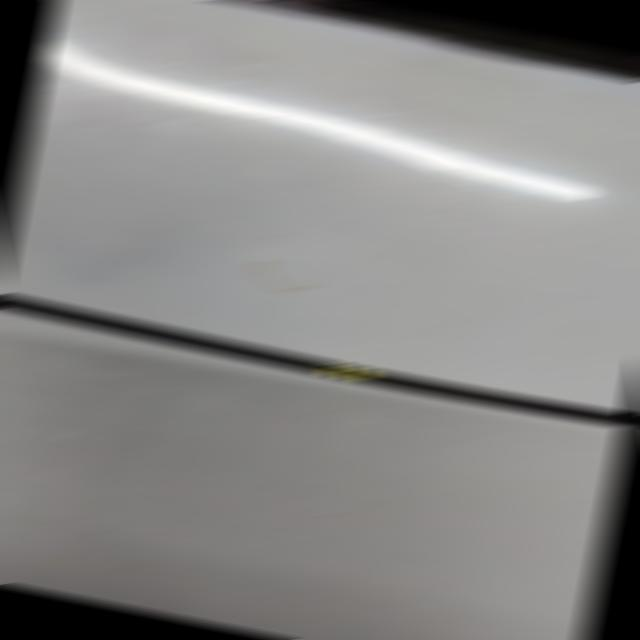yellow: (321, 362, 376, 382)
